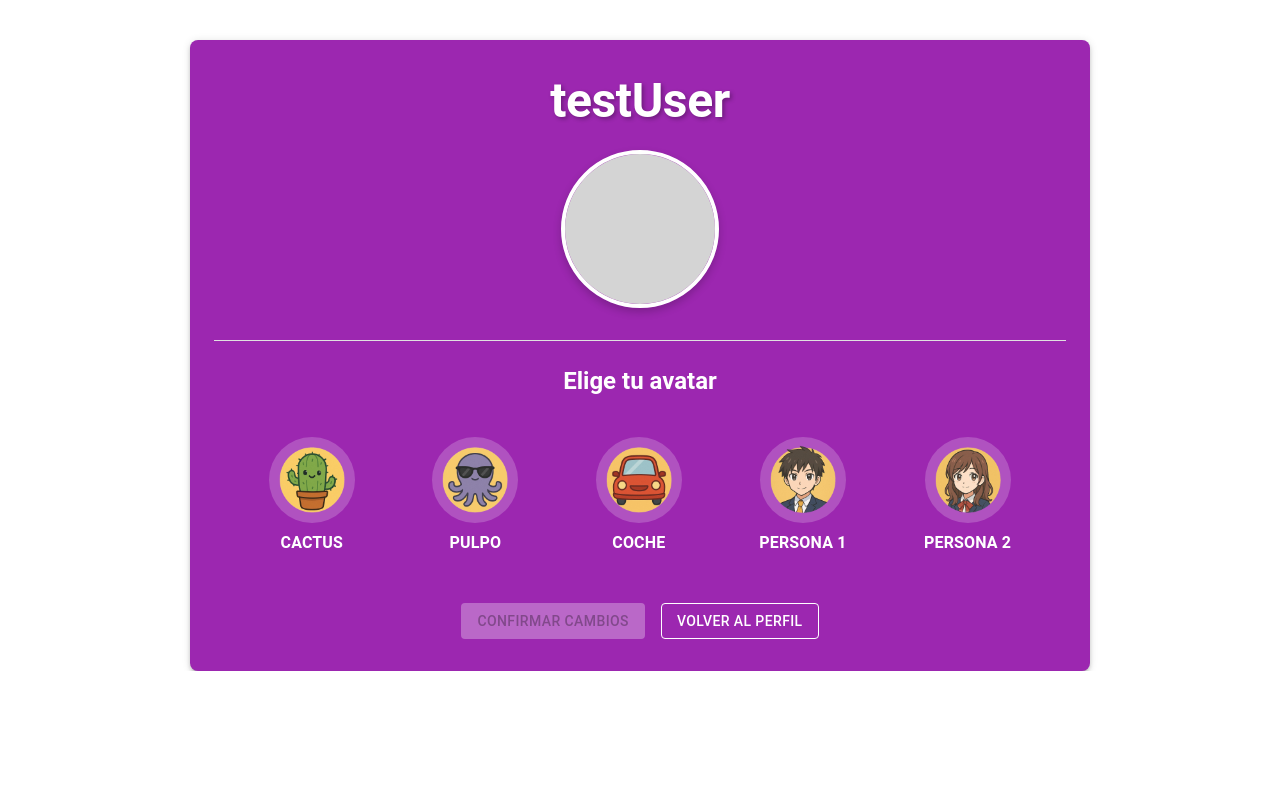
Test: AvatarSelection component › should clear error when Snackbar is closed
The width and height of the screenshot is (1280, 800).
Click the button with test id "cactus-button" at coordinates (312, 496), box [253,421,371,571]
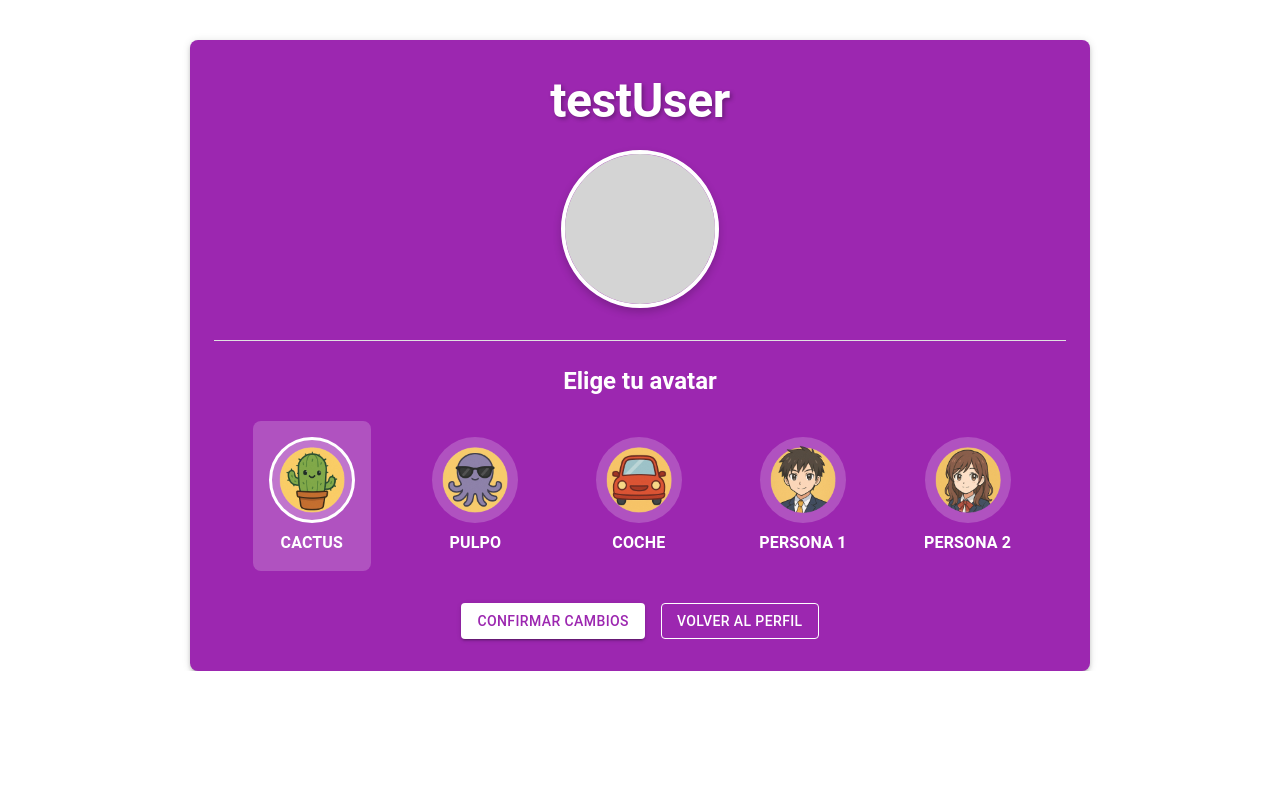
Click the button with test id "confirm-button" at coordinates (553, 621), box [461,603,645,639]
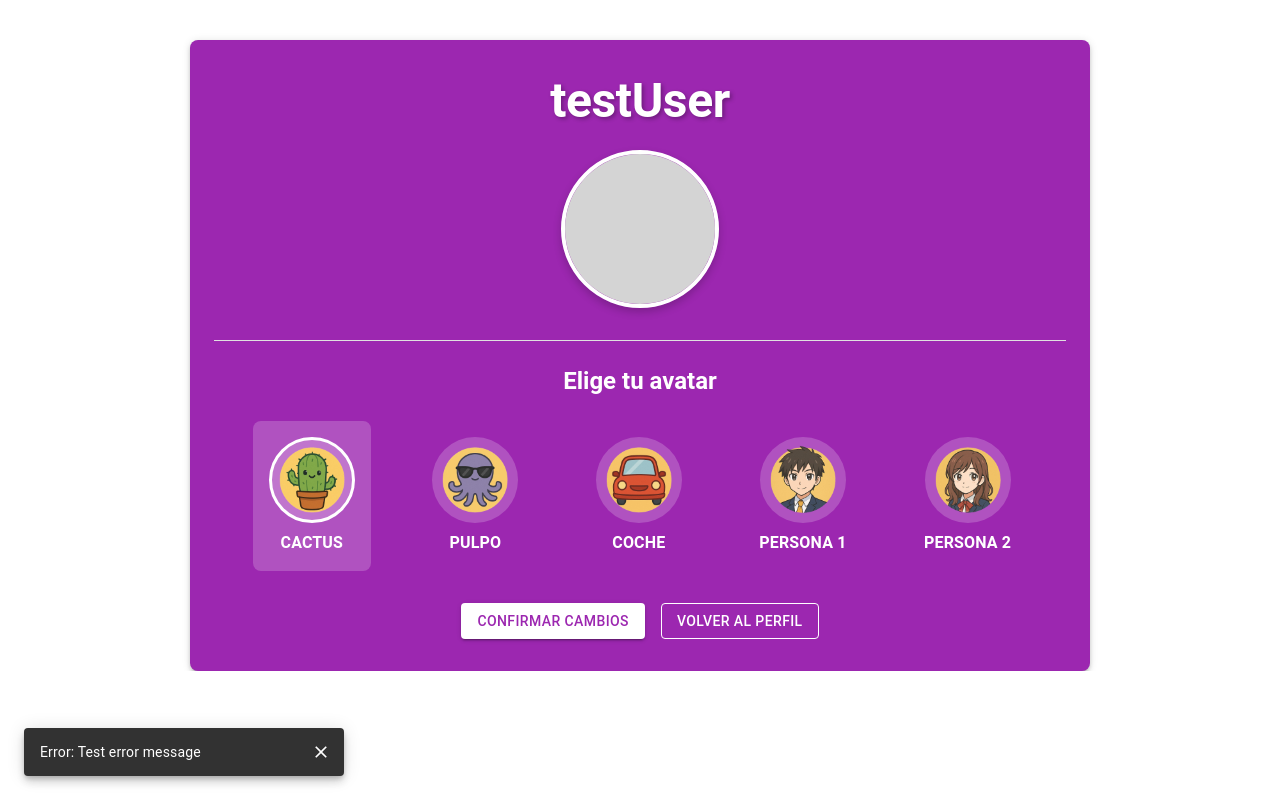
Expected: the text "Error: Test error message" is shown, [40,744,201,760]
Click the button named "close" at coordinates (321, 752), box [306,737,336,767]
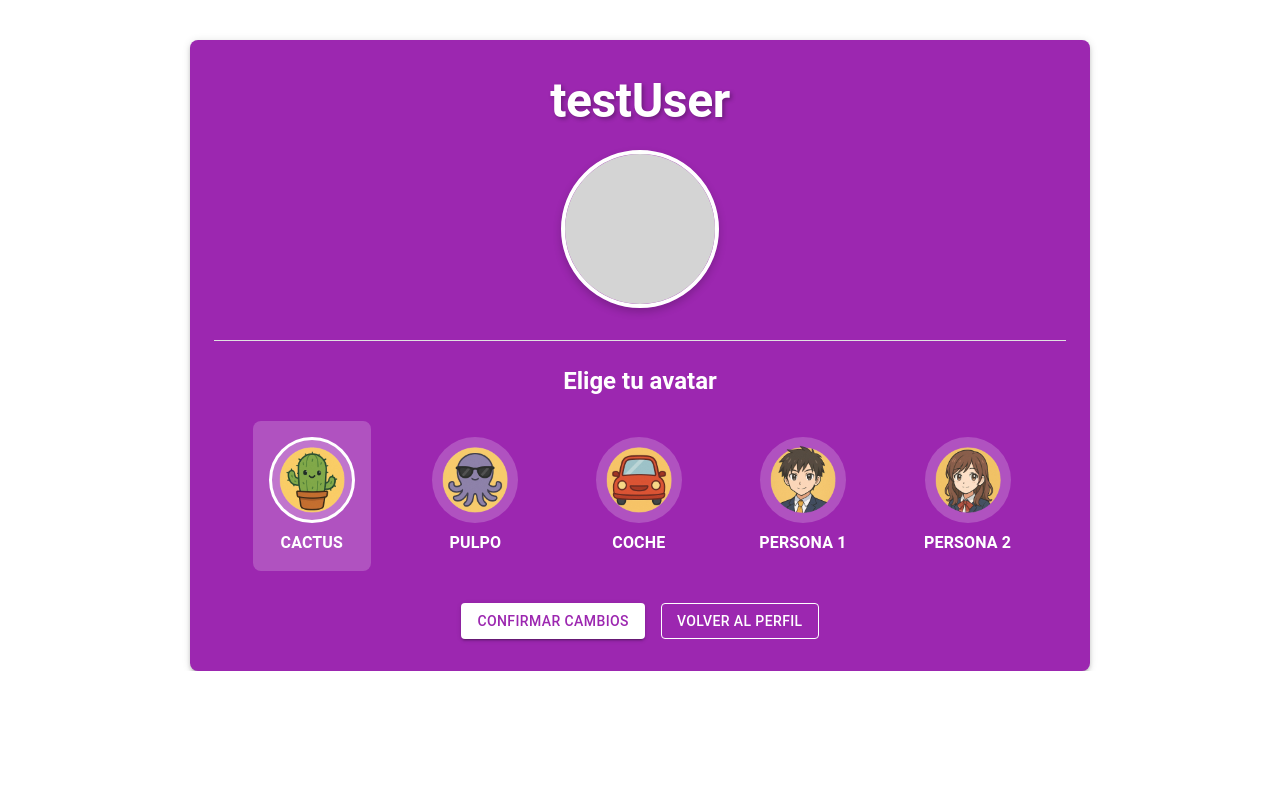
Expected: the text "Error: Test error message" is gone
